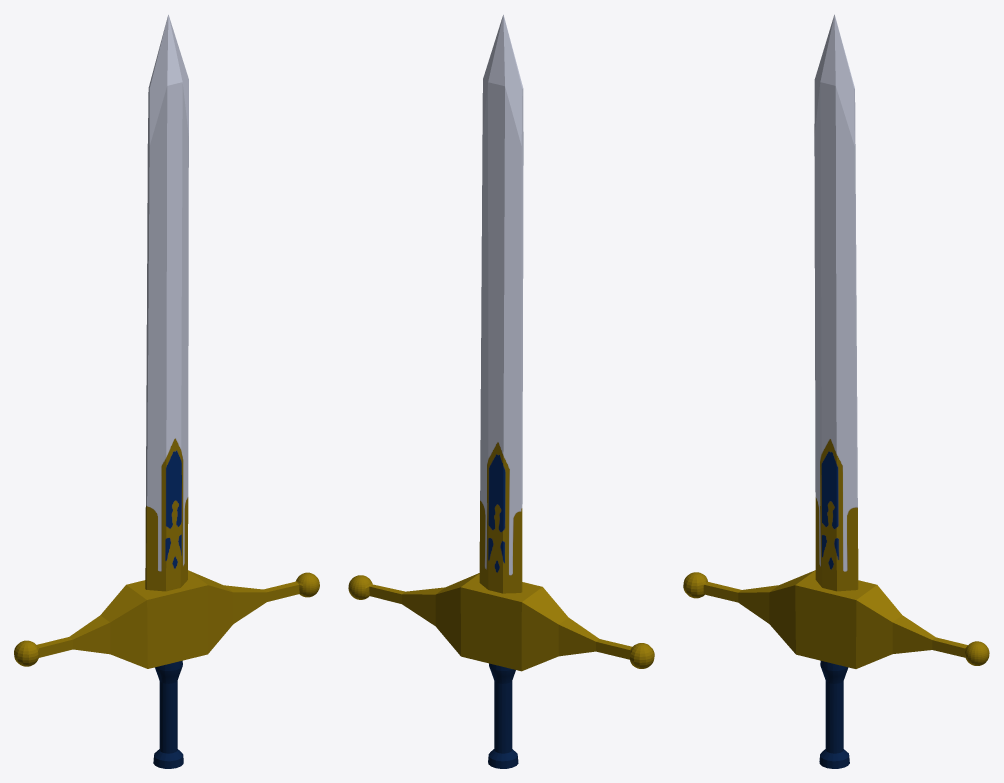
File: Excalibur.fbx
The picture shows the model from 3 angles, left to right: view 1: azimuth 30°, elevation 25°; view 2: azimuth 150°, elevation 25°; view 3: azimuth 330°, elevation 25°; orthographic projection.
Parts seen in each view (by area): view 1: Excalibur_2:pSphere5; view 2: Excalibur_2:pSphere5; view 3: Excalibur_2:pSphere5.
Part boxes in pixels (left/top/right/bottom): Excalibur_2:pSphere5: left=14, top=14, right=319, bottom=768; Excalibur_2:pSphere5: left=348, top=14, right=654, bottom=768; Excalibur_2:pSphere5: left=683, top=14, right=989, bottom=768.
Size of the model in its own units: 4.57 by 10.81 by 0.5484.
Materials: 1 (1 with a texture image).
